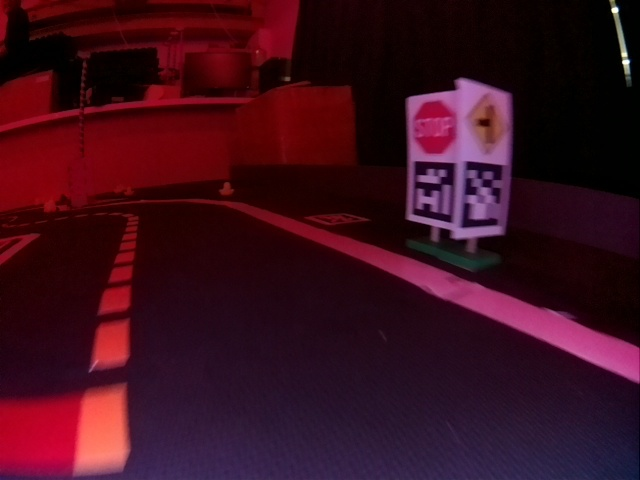Duckie: (219, 181, 234, 196)
Intersection sign: (459, 87, 510, 157)
QR code: (459, 159, 508, 230), (412, 160, 456, 229), (305, 212, 369, 225)
Stop sign: (412, 100, 457, 157)
